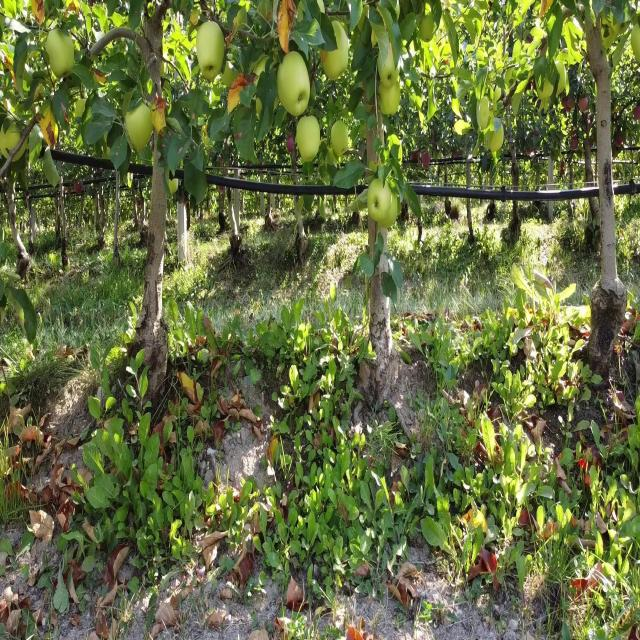apple: (280, 56, 312, 119), (200, 28, 226, 84), (48, 28, 75, 80), (296, 120, 320, 164), (324, 42, 349, 84), (128, 106, 152, 149), (368, 184, 392, 220), (380, 85, 402, 119), (332, 120, 351, 156), (40, 113, 59, 149), (280, 14, 295, 57), (152, 99, 168, 137), (300, 135, 320, 164), (4, 127, 21, 153), (368, 191, 381, 220), (388, 135, 403, 155), (40, 7, 54, 27), (36, 7, 51, 25), (4, 56, 16, 78), (192, 7, 204, 28), (32, 0, 44, 21), (488, 554, 499, 576), (188, 28, 199, 50), (216, 419, 226, 441), (220, 398, 230, 420), (488, 554, 499, 574), (64, 7, 79, 21), (168, 177, 179, 196), (240, 561, 252, 578), (468, 561, 479, 578), (460, 120, 471, 135), (288, 135, 296, 155), (256, 99, 264, 119), (480, 554, 488, 574), (416, 92, 424, 112), (112, 14, 123, 28), (212, 92, 222, 107), (480, 554, 487, 574), (456, 120, 465, 135), (564, 99, 573, 114), (520, 511, 529, 526), (452, 99, 460, 114), (580, 99, 588, 114), (616, 135, 624, 149), (236, 490, 243, 505), (464, 120, 471, 135), (564, 99, 571, 114), (268, 7, 274, 23), (636, 106, 640, 121)
